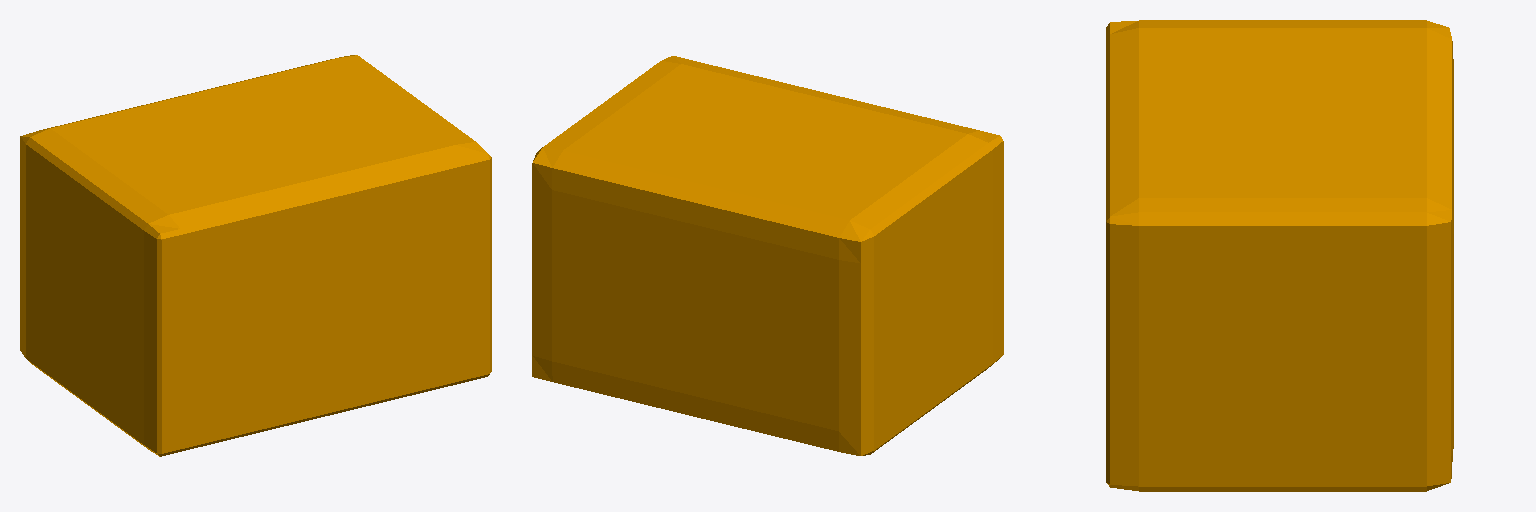
The robot description file, URDF, robot "cylinder_box_35":
<?xml version="1.0" encoding="utf-8"?>  <robot name="cylinder_box_35">   <link name="cylinder_box_35">     <visual>       <geometry>         <mesh filename="../meshes/box/box_35.stl" scale="1 1 1"/>       </geometry>     </visual>     <collision>       <geometry>         <mesh filename="../meshes/box/box_35.stl" scale="1 1 1"/>       </geometry>     </collision>     <inertial>        <origin         xyz="0 0 0"         rpy="0 0 0" />       <mass value="0.2676655940971884"/>       <origin rpy="0 0 0" xyz="0 0 0"/>       <inertia ixx="0.00014483153611648348" ixy="-5.966630525728808e-08" ixz="5.396896385840242e-09" iyy="0.00021530905173091055" iyz="-1.8023005332187595e-08" izz="0.00023120800323744062"/>     </inertial>   </link>  </robot>

--- Facts derived from the render (not from the file) ---
The picture shows the robot from 3 angles, left to right: view 1: azimuth 30°, elevation 25°; view 2: azimuth 150°, elevation 25°; view 3: azimuth 270°, elevation 25°; orthographic projection.
Model cylinder_box_35 with 1 links and 0 joints (none), rooted at cylinder_box_35, posed all joints at 0.
Links seen in each view (by area): view 1: cylinder_box_35; view 2: cylinder_box_35; view 3: cylinder_box_35.
Boxes of the visible links, x1,y1,x2,y2 form: cylinder_box_35: (20,55,491,456); cylinder_box_35: (532,56,1003,455); cylinder_box_35: (1106,20,1453,491).
Size in the robot's own frame: 0.0826 by 0.0605 by 0.0542 metres.
Meshes: 1 distinct files referenced, 1 mesh visuals loaded (1 binary STL).